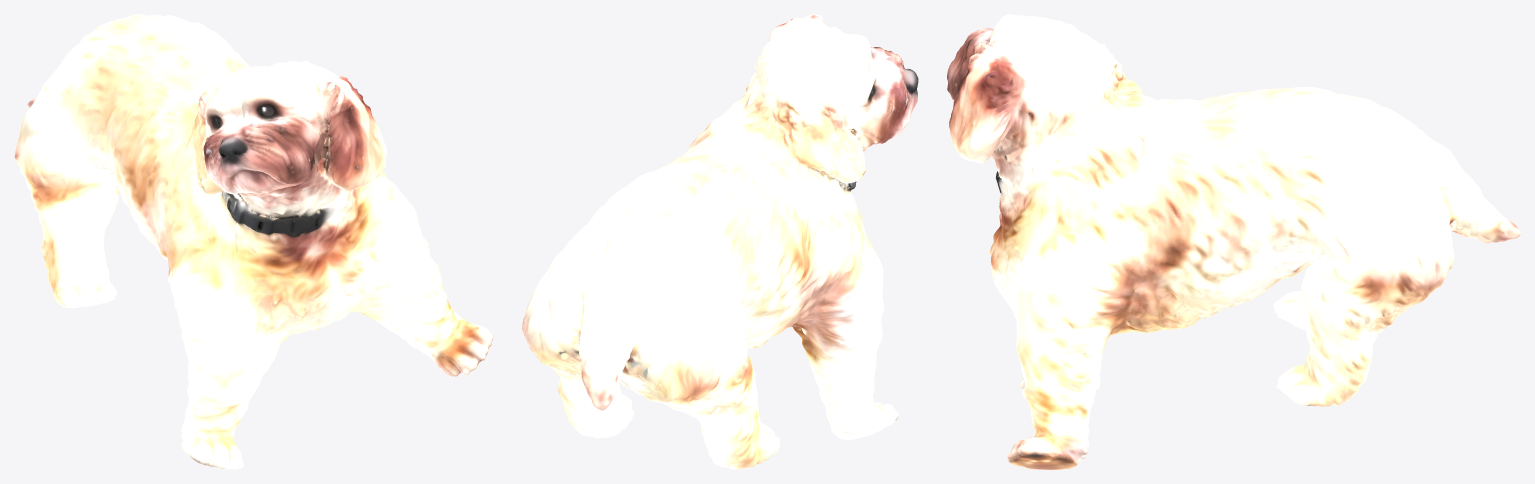
The model's file is sleep_pose_v4.glb.
The picture shows the model from 3 angles, left to right: view 1: azimuth 30°, elevation 25°; view 2: azimuth 150°, elevation 25°; view 3: azimuth 270°, elevation 25°; orthographic projection. The views are drawn at different scales.
Parts seen in each view (by area): view 1: char1; view 2: char1; view 3: char1.
Part boxes in pixels (x1,y1,x2,y2): char1: [14, 14, 493, 469]; char1: [522, 14, 918, 469]; char1: [947, 14, 1520, 469].
Size of the model in its own units: 0.00253 by 0.00319 by 0.00412.
1 material, 1 textured.
